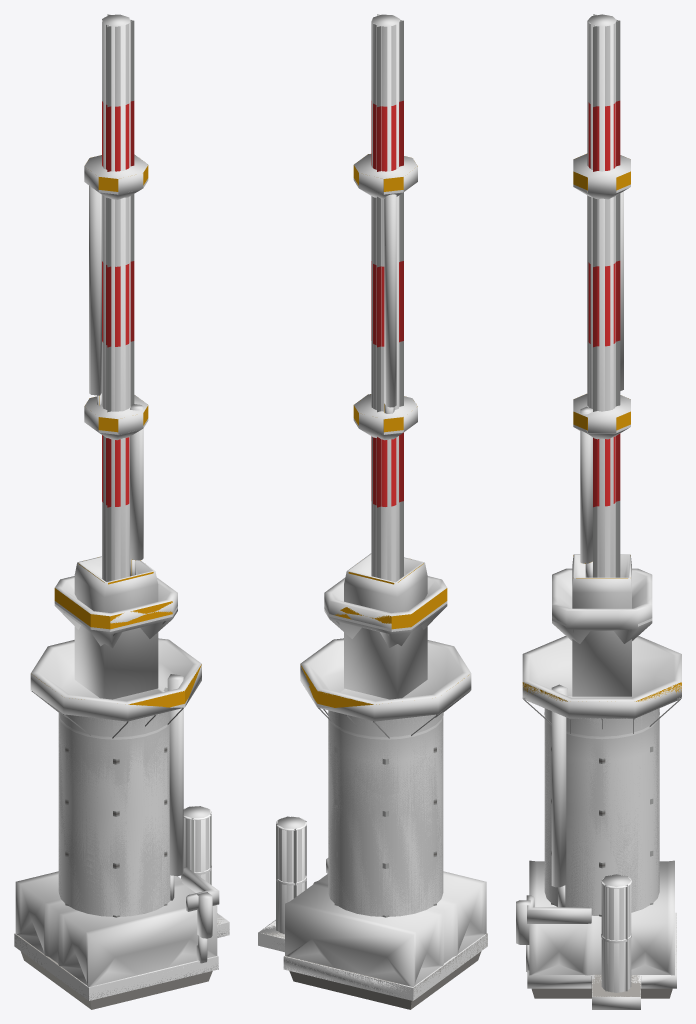
Rendered from punisherOilRef.dae.
3 views of the same model, side by side, from view 1: azimuth 30°, elevation 25°; view 2: azimuth 150°, elevation 25°; view 3: azimuth 270°, elevation 25° (orthographic).
Visible parts, largest first — view 1: Colmesh_s_oil_ref_unit1-1, s_oil_ref_unit1_L4500, s_oil_ref_unit1_L25, s_oil_ref_unit1_L450, s_oil_ref_unit1_L1800; view 2: Colmesh_s_oil_ref_unit1-1, s_oil_ref_unit1_L4500, s_oil_ref_unit1_L25, s_oil_ref_unit1_L450, s_oil_ref_unit1_L1800; view 3: Colmesh_s_oil_ref_unit1-1, s_oil_ref_unit1_L4500, s_oil_ref_unit1_L25, s_oil_ref_unit1_L450.
Part boxes in pixels (x1,y1,x2,y2): Colmesh_s_oil_ref_unit1-1: (15,14,229,1000); s_oil_ref_unit1_L4500: (14,14,229,1000); s_oil_ref_unit1_L25: (15,14,134,984); s_oil_ref_unit1_L450: (14,747,223,1009); s_oil_ref_unit1_L1800: (14,922,228,1000); Colmesh_s_oil_ref_unit1-1: (258,14,486,996); s_oil_ref_unit1_L4500: (258,14,487,1000); s_oil_ref_unit1_L25: (284,14,486,984); s_oil_ref_unit1_L450: (262,747,487,1009); s_oil_ref_unit1_L1800: (258,25,487,1000); Colmesh_s_oil_ref_unit1-1: (516,14,681,1009); s_oil_ref_unit1_L4500: (522,15,681,992); s_oil_ref_unit1_L25: (593,14,676,947); s_oil_ref_unit1_L450: (531,746,672,998).
Size of the model in its own units: 14.24 by 11.53 by 72.9.
